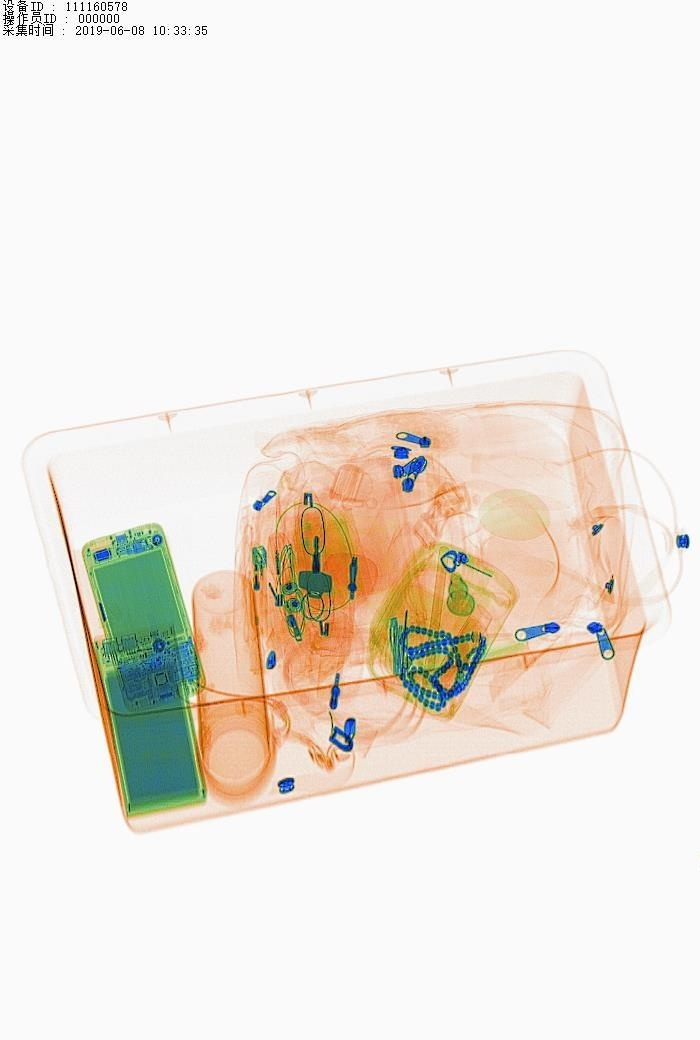NonmetallicFire: (239, 541, 275, 649)
